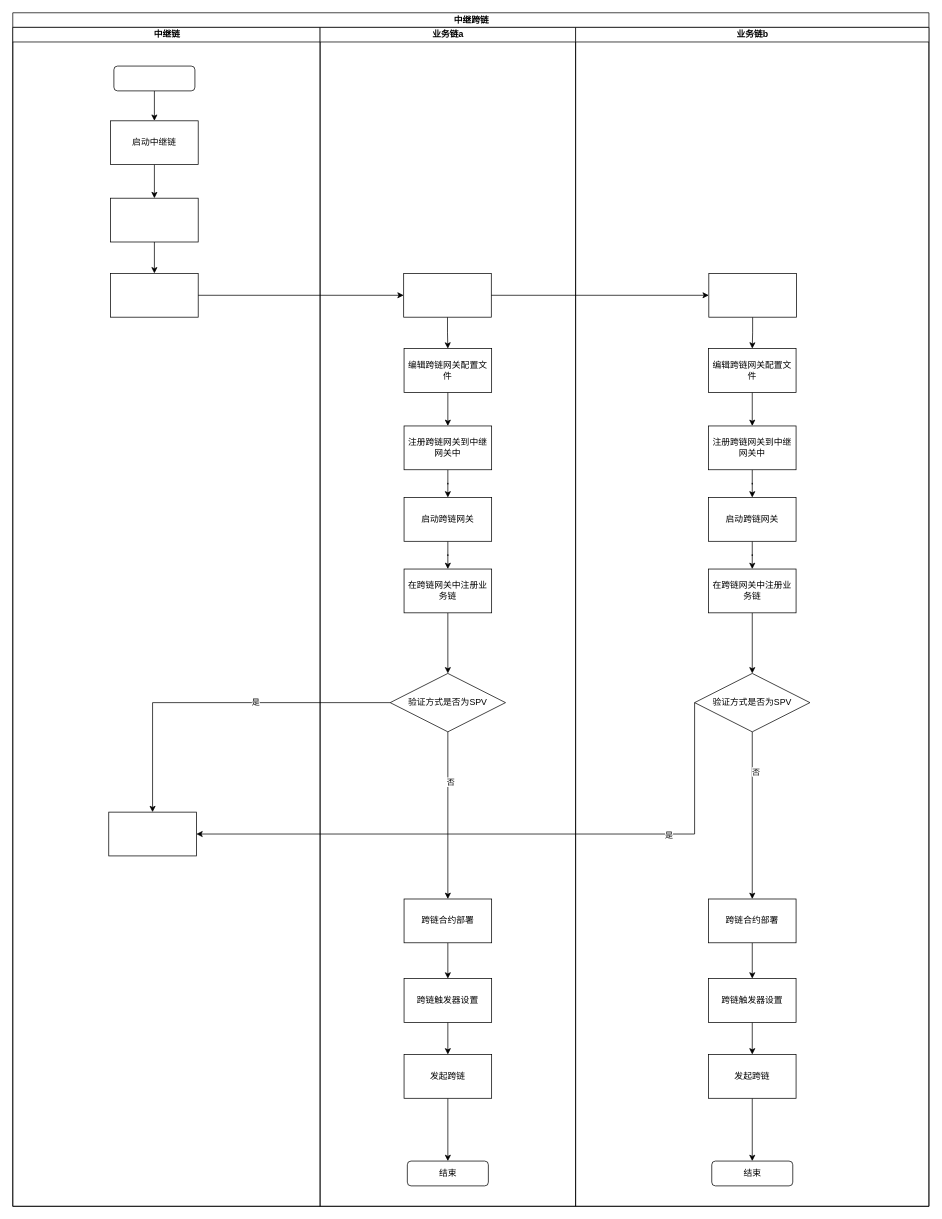
The diagram is 942 pixels wide and 1219 high, and some of its shapes have lost their labels. Each missing label, with the centre of its shape:
"启动中继网关" goes at pixel 154 295.
"开始" goes at pixel 154 78.
"编辑中继网 关配置文件" goes at pixel 154 219.
"部署SPV验证合约" goes at pixel 152 833.
"部署业务链a" goes at pixel 447 295.
"部署业务链b" goes at pixel 752 295.
